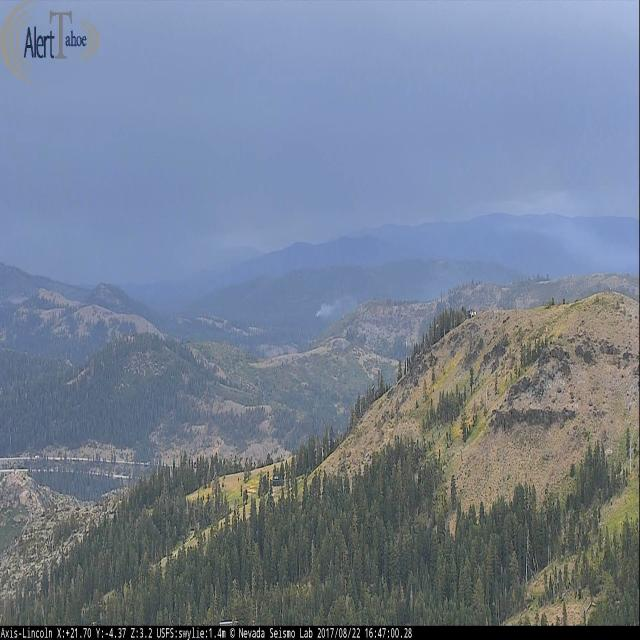smoke: (315, 293, 356, 316)
